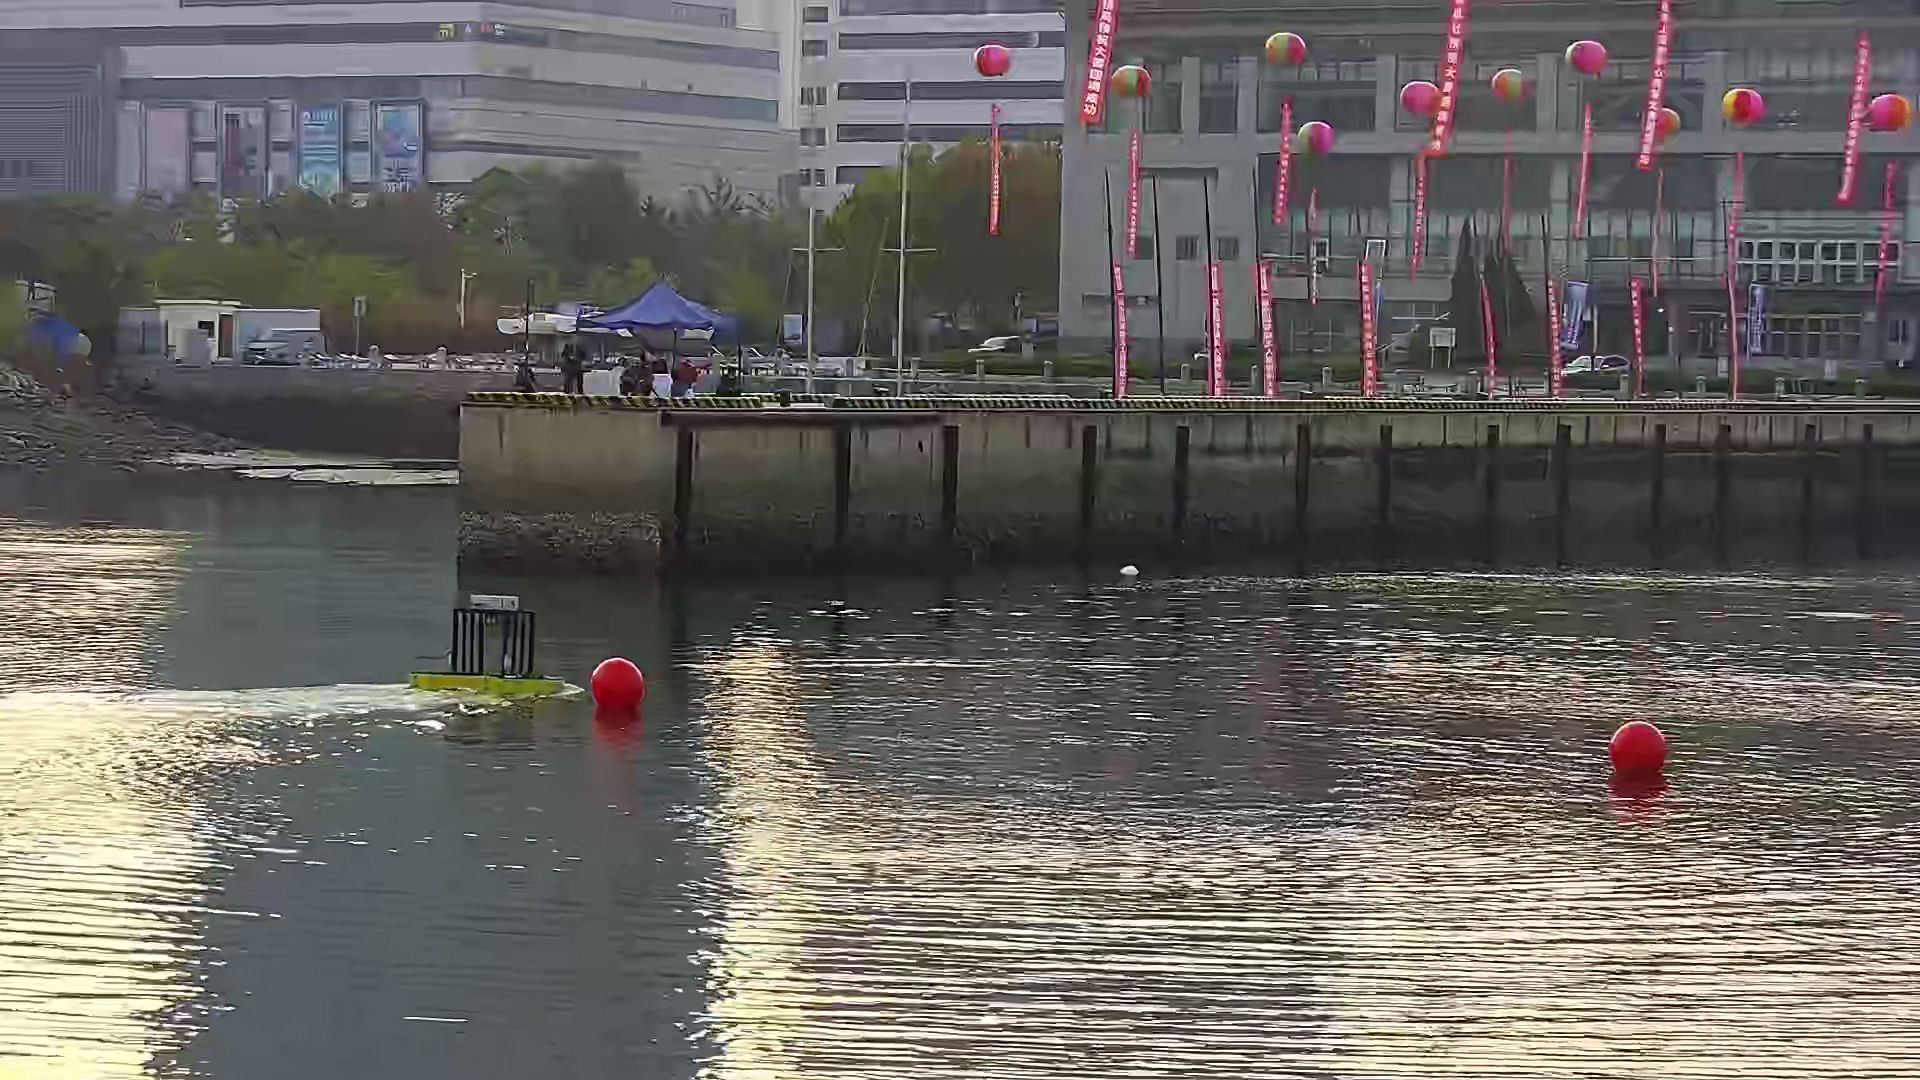ball: (1605, 717, 1668, 778), (589, 658, 647, 715)
boat: (411, 592, 572, 702)
